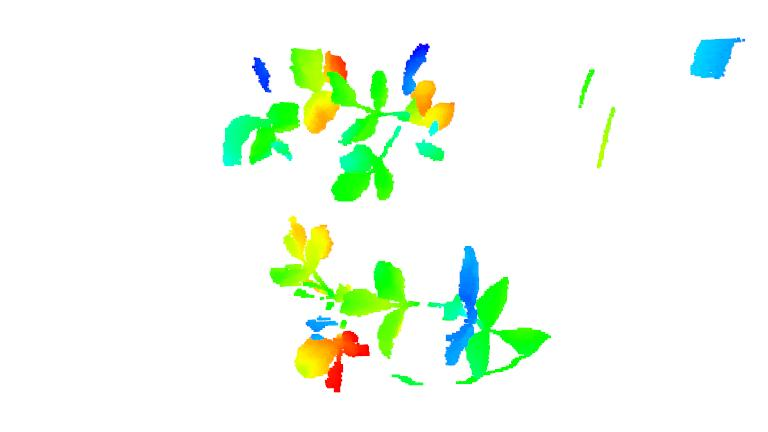mungbean: (344, 243, 552, 379), (265, 213, 379, 392), (327, 41, 452, 204), (216, 38, 353, 170)
